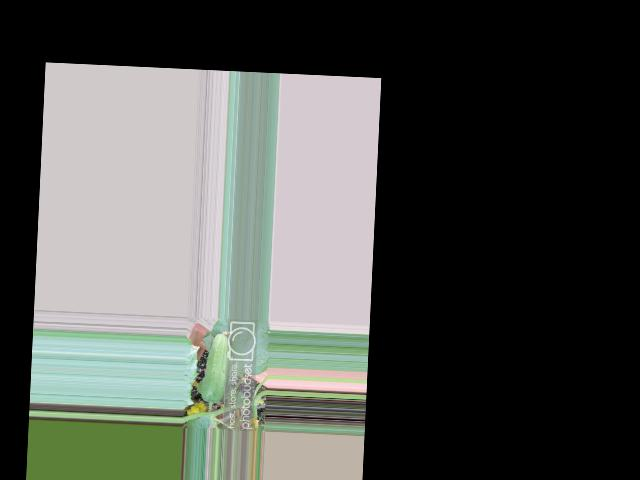cucumber: (201, 332, 232, 402)
